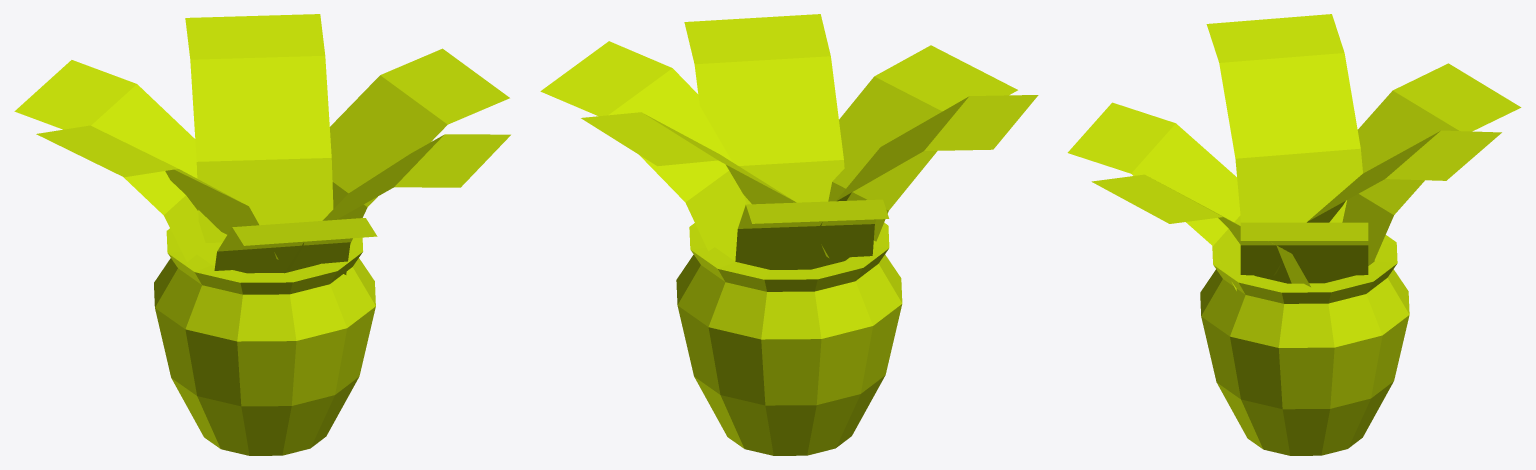
File: Model_Plant_Y.fbx
3 renders of one model, left to right at view 1: azimuth 30°, elevation 25°; view 2: azimuth 150°, elevation 25°; view 3: azimuth 270°, elevation 25°, orthographic. The views are drawn at different scales.
Visible parts, largest first — view 1: Plane.003; view 2: Plane.003; view 3: Plane.003.
Part boxes in pixels (x1,y1,x2,y2): Plane.003: (14, 14, 510, 455); Plane.003: (540, 14, 1038, 455); Plane.003: (1067, 14, 1521, 455).
Bounding box in the file's own units: 505 × 382 × 494.
